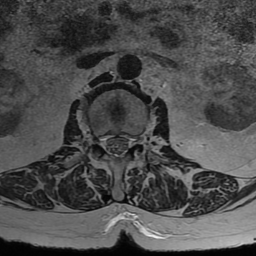CCS_normal: (112, 123, 122, 165)
LFS_normal: (132, 123, 140, 156)
LLS_normal: (122, 123, 132, 159)
RFS_normal: (91, 123, 102, 155)
RLS_normal: (102, 125, 112, 161)
